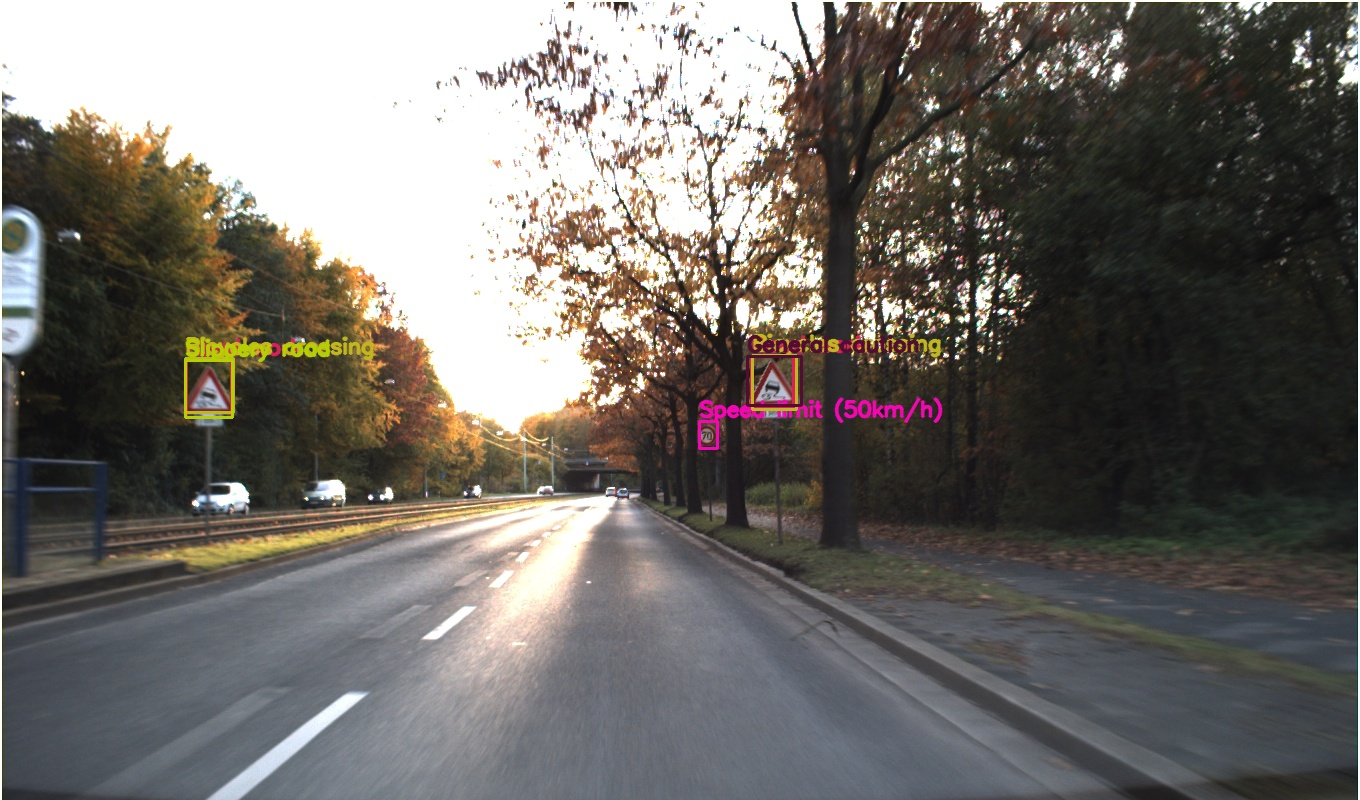Speed limit (100km/h): (1101, 483, 1133, 516), (519, 492, 550, 524)
